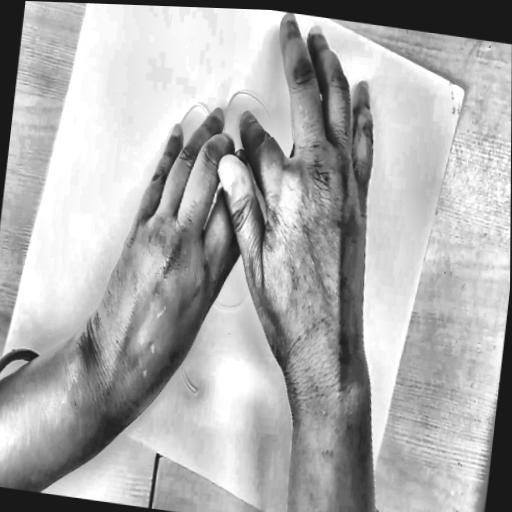bottom_left: (0, 350, 8, 365)
flower: (103, 45, 328, 424)
top_right: (457, 82, 470, 100)
